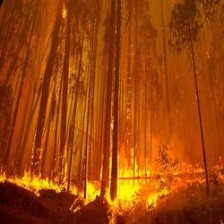fire: (2, 164, 224, 208)
